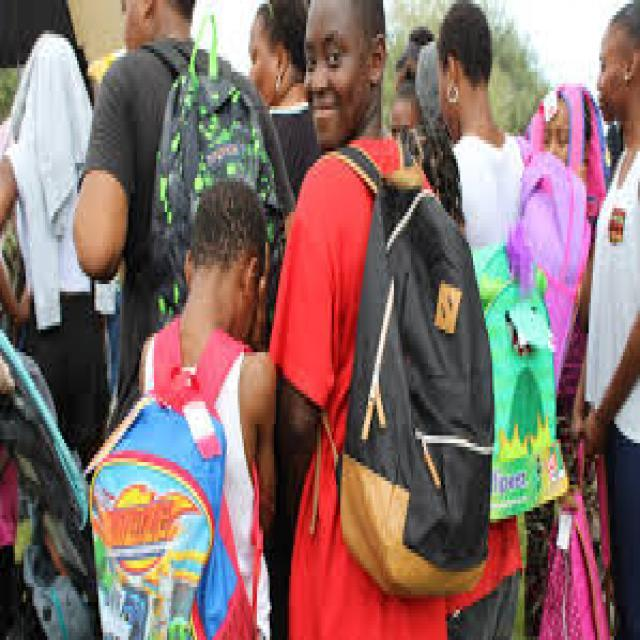Backpacks: (338, 161, 495, 605), (72, 367, 262, 640)
